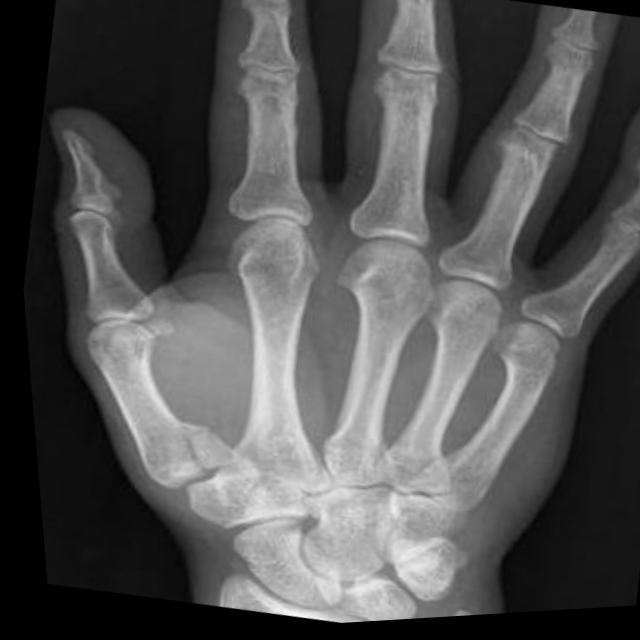fracture: (146, 406, 253, 499)
